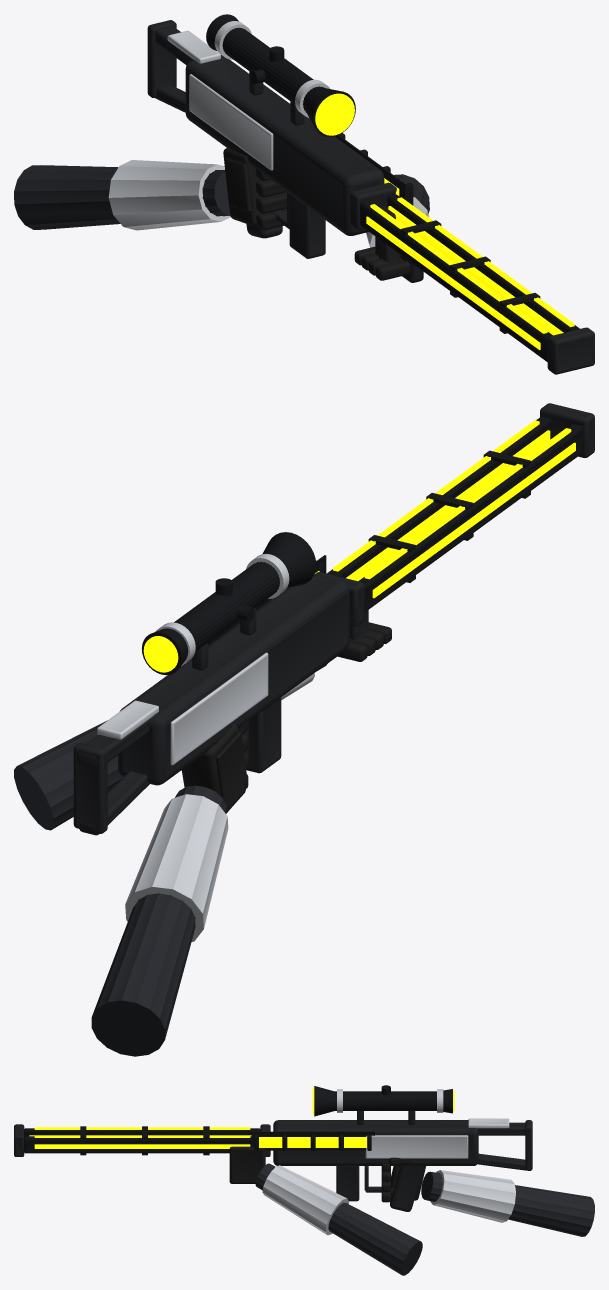
File: gun_rail.glb
3 views of the same model, one above another, from view 1: azimuth 30°, elevation 25°; view 2: azimuth 150°, elevation 25°; view 3: azimuth 270°, elevation 25° (orthographic). The views are drawn at different scales.
Parts seen in each view (by area): view 1: Body, Forearm_R, Gauntlet_R, Rails, Rail_Core, Armor_Plates, Scope, Glove_R, Glove_L, Scope_Glow, Rod_Bay; view 2: Body, Forearm_R, Rails, Gauntlet_R, Rail_Core, Armor_Plates, Scope, Forearm_L, Glove_R, Glove_L, Scope_Glow; view 3: Body, Rails, Forearm_L, Forearm_R, Armor_Plates, Gauntlet_R, Gauntlet_L, Scope, Rail_Core, Rod_Bay, Glove_L, Glove_R.
Part boxes in pixels (x1=…): Body: x1=147, y1=20, x2=594, y2=374; Forearm_R: x1=14, y1=165, x2=229, y2=229; Gauntlet_R: x1=108, y1=160, x2=230, y2=230; Rails: x1=360, y1=194, x2=579, y2=361; Rail_Core: x1=366, y1=197, x2=574, y2=349; Armor_Plates: x1=167, y1=21, x2=330, y2=170; Scope: x1=206, y1=14, x2=355, y2=137; Glove_R: x1=223, y1=148, x2=286, y2=230; Glove_L: x1=354, y1=206, x2=423, y2=282; Scope_Glow: x1=315, y1=93, x2=354, y2=135; Rod_Bay: x1=335, y1=133, x2=413, y2=205; Body: x1=73, y1=403, x2=594, y2=835; Forearm_R: x1=91, y1=785, x2=226, y2=1056; Rails: x1=327, y1=416, x2=583, y2=612; Gauntlet_R: x1=125, y1=794, x2=228, y2=941; Rail_Core: x1=333, y1=420, x2=575, y2=598; Armor_Plates: x1=97, y1=554, x2=289, y2=765; Scope: x1=142, y1=532, x2=316, y2=675; Forearm_L: x1=14, y1=663, x2=327, y2=830; Glove_R: x1=187, y1=721, x2=248, y2=812; Glove_L: x1=328, y1=622, x2=391, y2=662; Scope_Glow: x1=143, y1=636, x2=178, y2=672; Body: x1=14, y1=1111, x2=532, y2=1211; Rails: x1=24, y1=1126, x2=260, y2=1155; Forearm_L: x1=255, y1=1163, x2=422, y2=1275; Forearm_R: x1=421, y1=1171, x2=594, y2=1236; Armor_Plates: x1=337, y1=1089, x2=509, y2=1158; Gauntlet_R: x1=430, y1=1170, x2=515, y2=1222; Gauntlet_L: x1=262, y1=1165, x2=348, y2=1235; Scope: x1=314, y1=1085, x2=452, y2=1116; Rail_Core: x1=29, y1=1127, x2=251, y2=1148; Rod_Bay: x1=251, y1=1131, x2=374, y2=1150; Glove_L: x1=229, y1=1146, x2=265, y2=1183; Glove_R: x1=381, y1=1157, x2=425, y2=1202.
Size of the model in its own units: 0.3816 by 0.3677 by 1.13.
